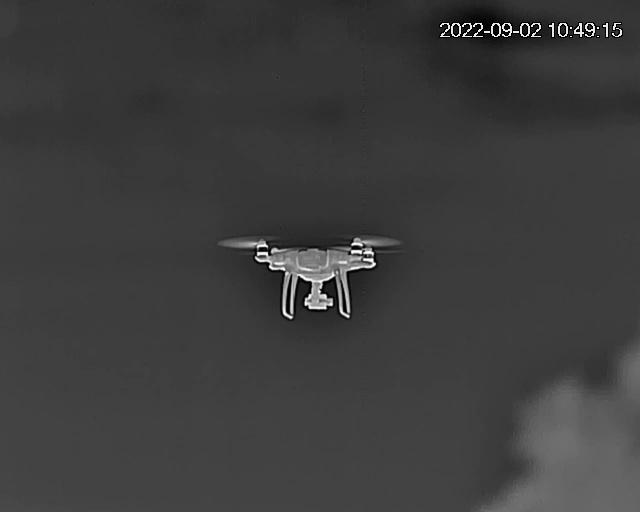DJI-Phantom: (214, 231, 409, 322)
